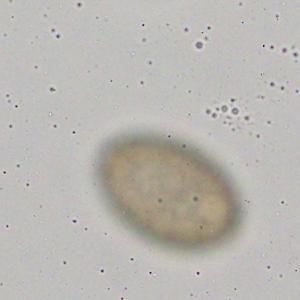Fasciola_hepatica_egg: (92, 130, 242, 251)
